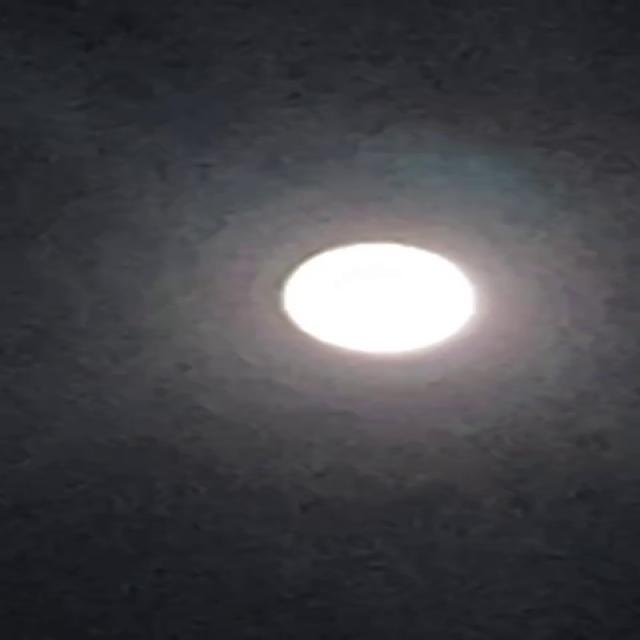moon: (281, 228, 508, 349)
